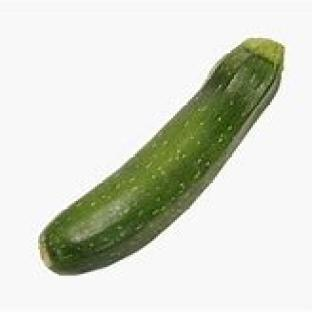Zucchini: (40, 39, 283, 273)
